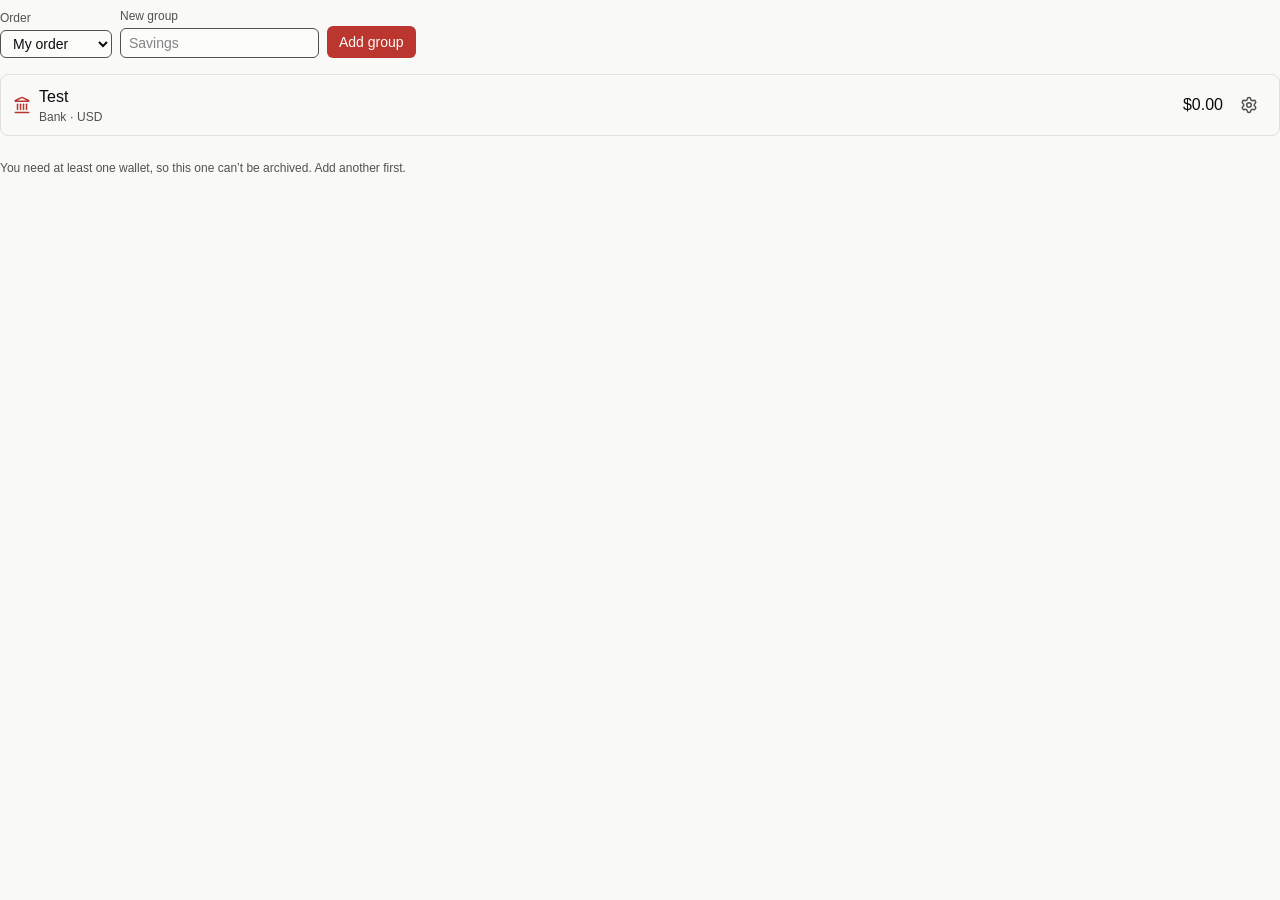
it: WalletList — members and edit dialogs › keeps the edit dialog open when the save is refused
This screenshot has width=1280, height=900.
Click the button named "Edit Test" at (1249, 105), box [1231,83,1267,127]
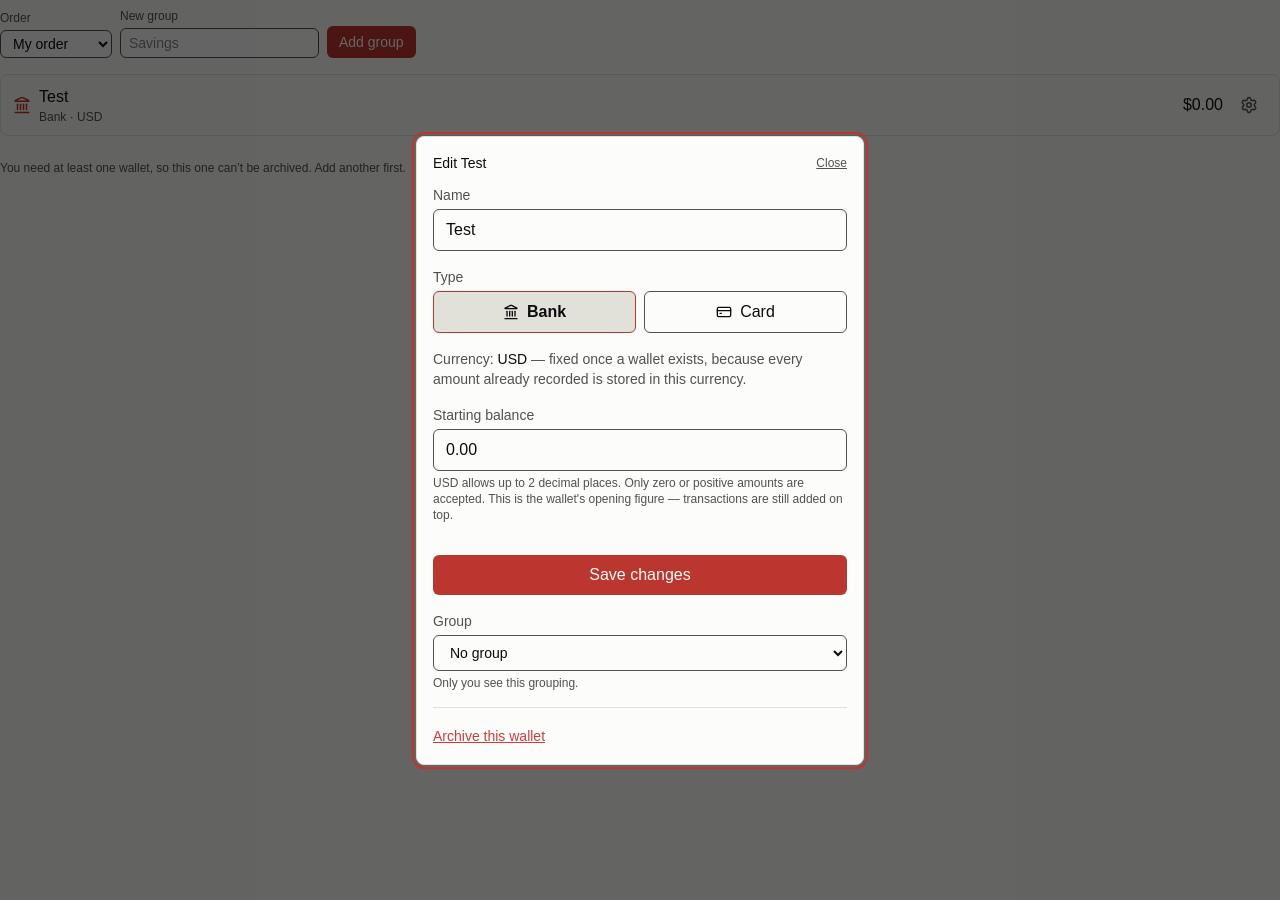
Click the button "Save changes" at (640, 574), box [433,554,847,594]
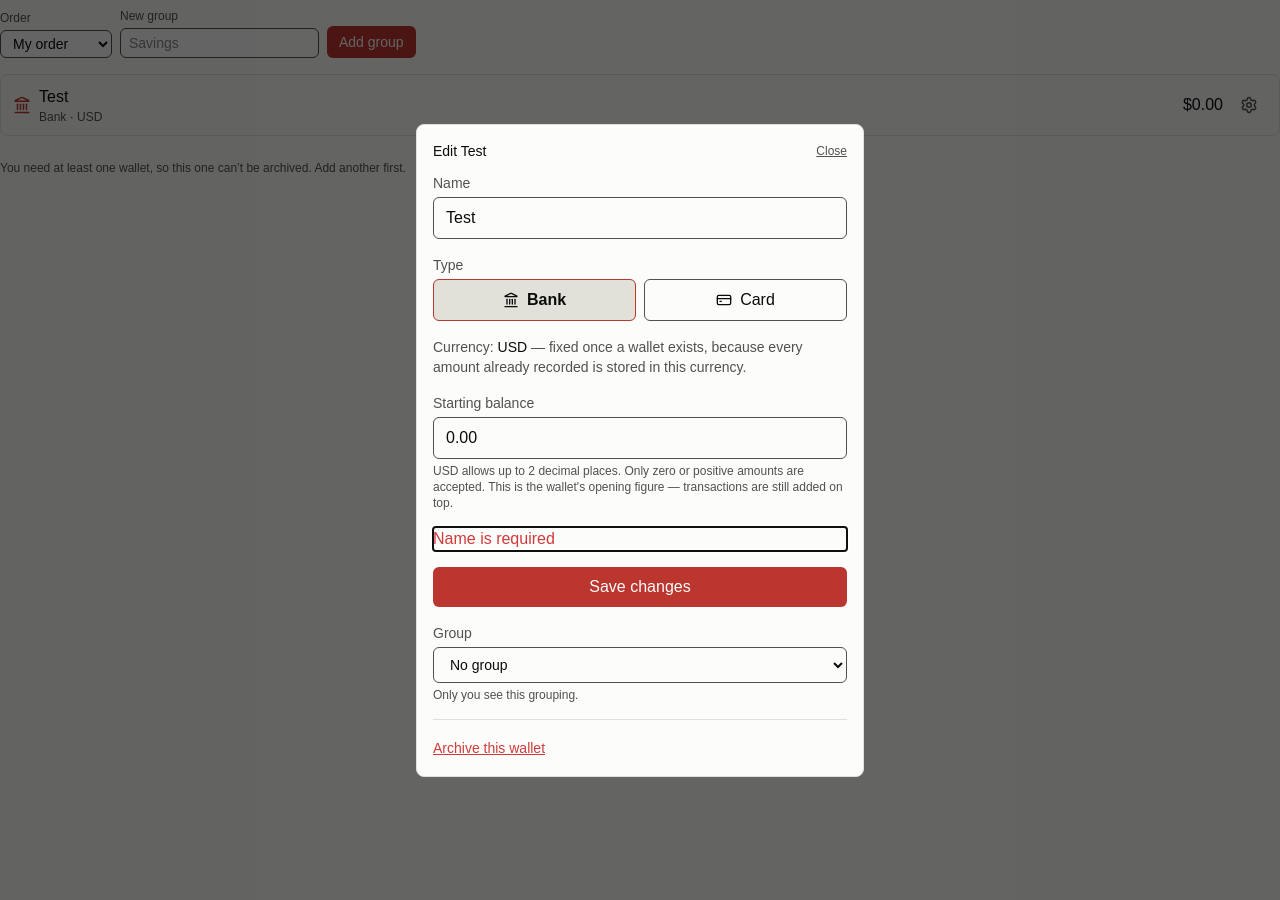
Expected: the dialog "Edit Test" is shown, [416,124,864,776]
Expected: the text "Name is required" is shown, [433,530,555,546]
